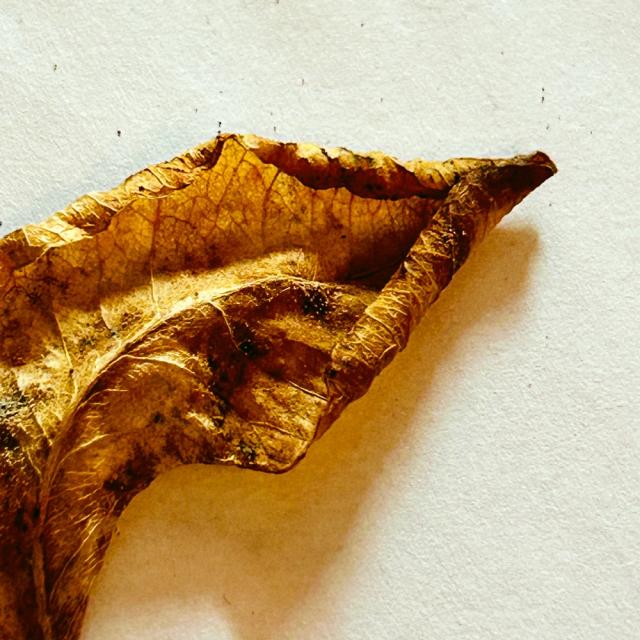DryLeaf_Lemon: (0, 134, 556, 639)
